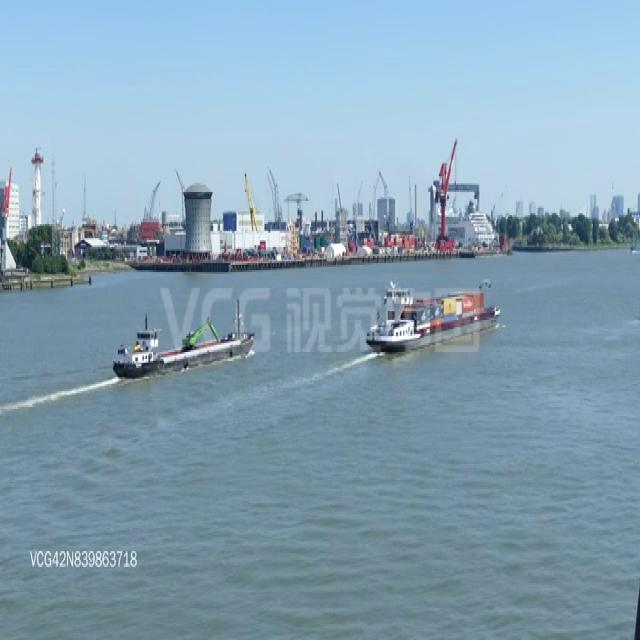cargoship: (114, 299, 250, 384), (366, 276, 501, 356)
